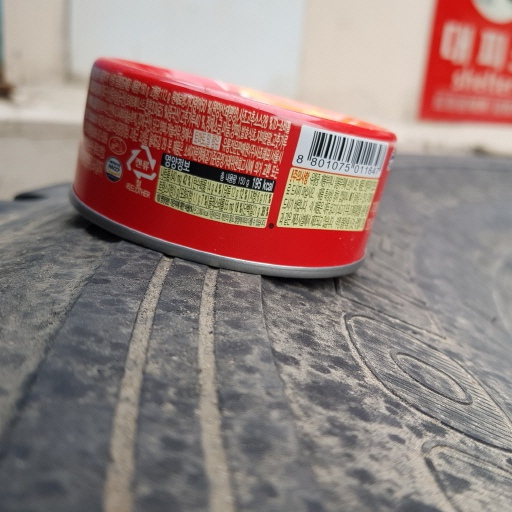Metal_1: (72, 55, 398, 288)
